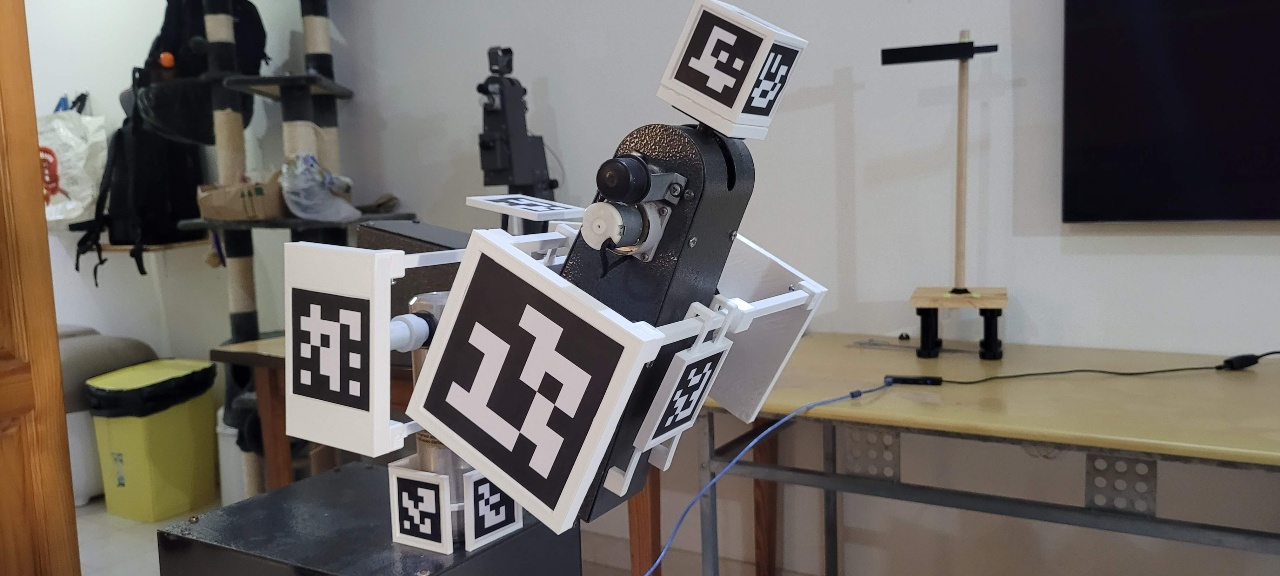Robot: (283, 1, 829, 557)
